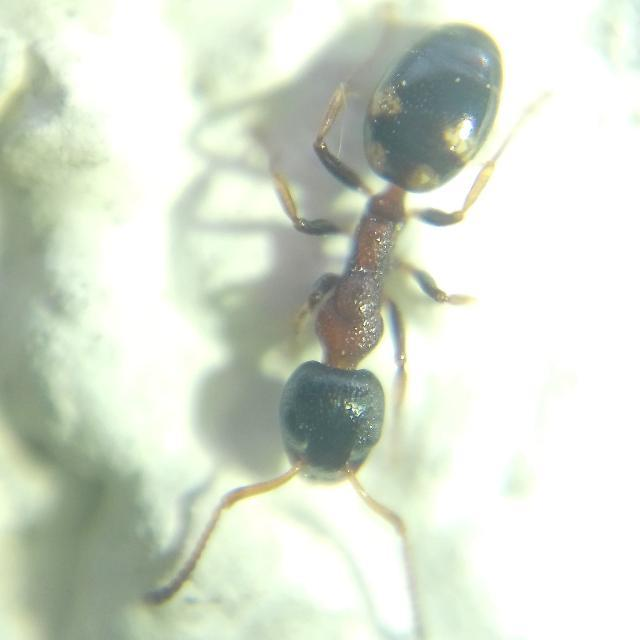Dolichoderus: (176, 0, 596, 606)
